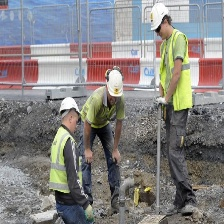helmet: (105, 61, 125, 99), (149, 2, 169, 34), (57, 96, 84, 115)
person: (150, 3, 203, 215), (81, 60, 125, 224), (51, 96, 91, 224)
vest: (155, 31, 196, 114), (51, 122, 83, 199), (86, 87, 125, 132)
